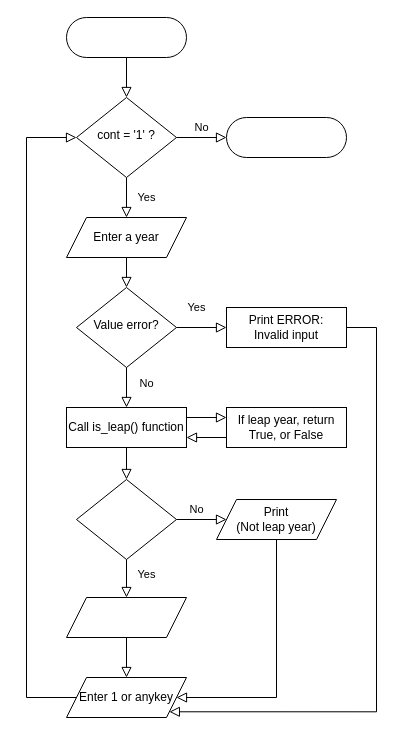
Image size: 404x740. Some labels were removed from this diagram. Here are the shapes that lost their labels. From the top down, the centre of each, then its label:
At point (126, 37): "Start".
At point (286, 137): "End".
At point (126, 519): "year = True ?".
At point (126, 617): "Print (leap year)".
